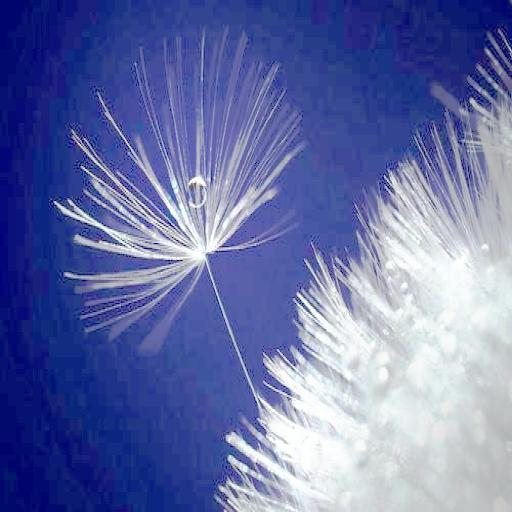dandelion: (232, 54, 512, 512), (61, 44, 304, 316)
